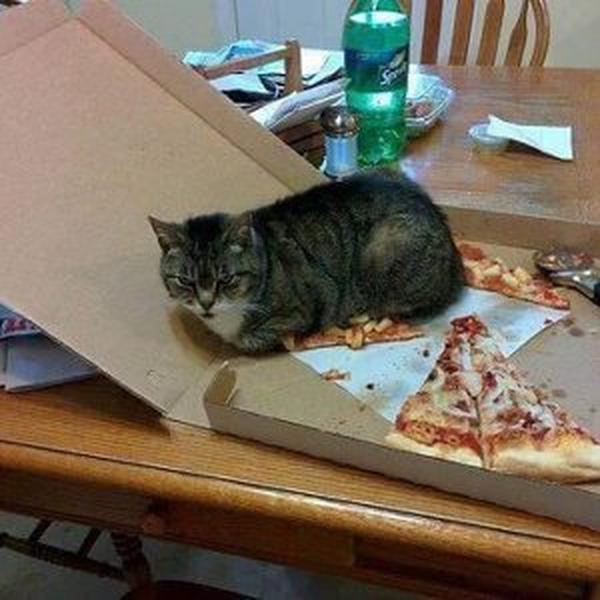michi: (142, 153, 488, 364)
